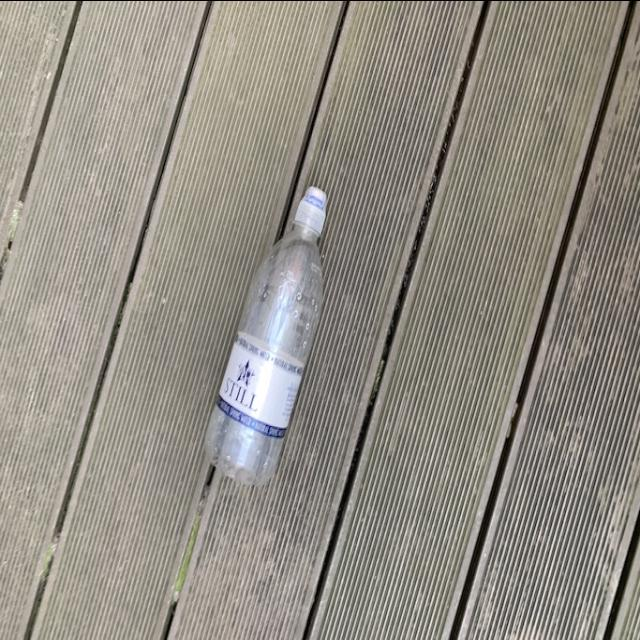PET: (202, 183, 334, 492)
